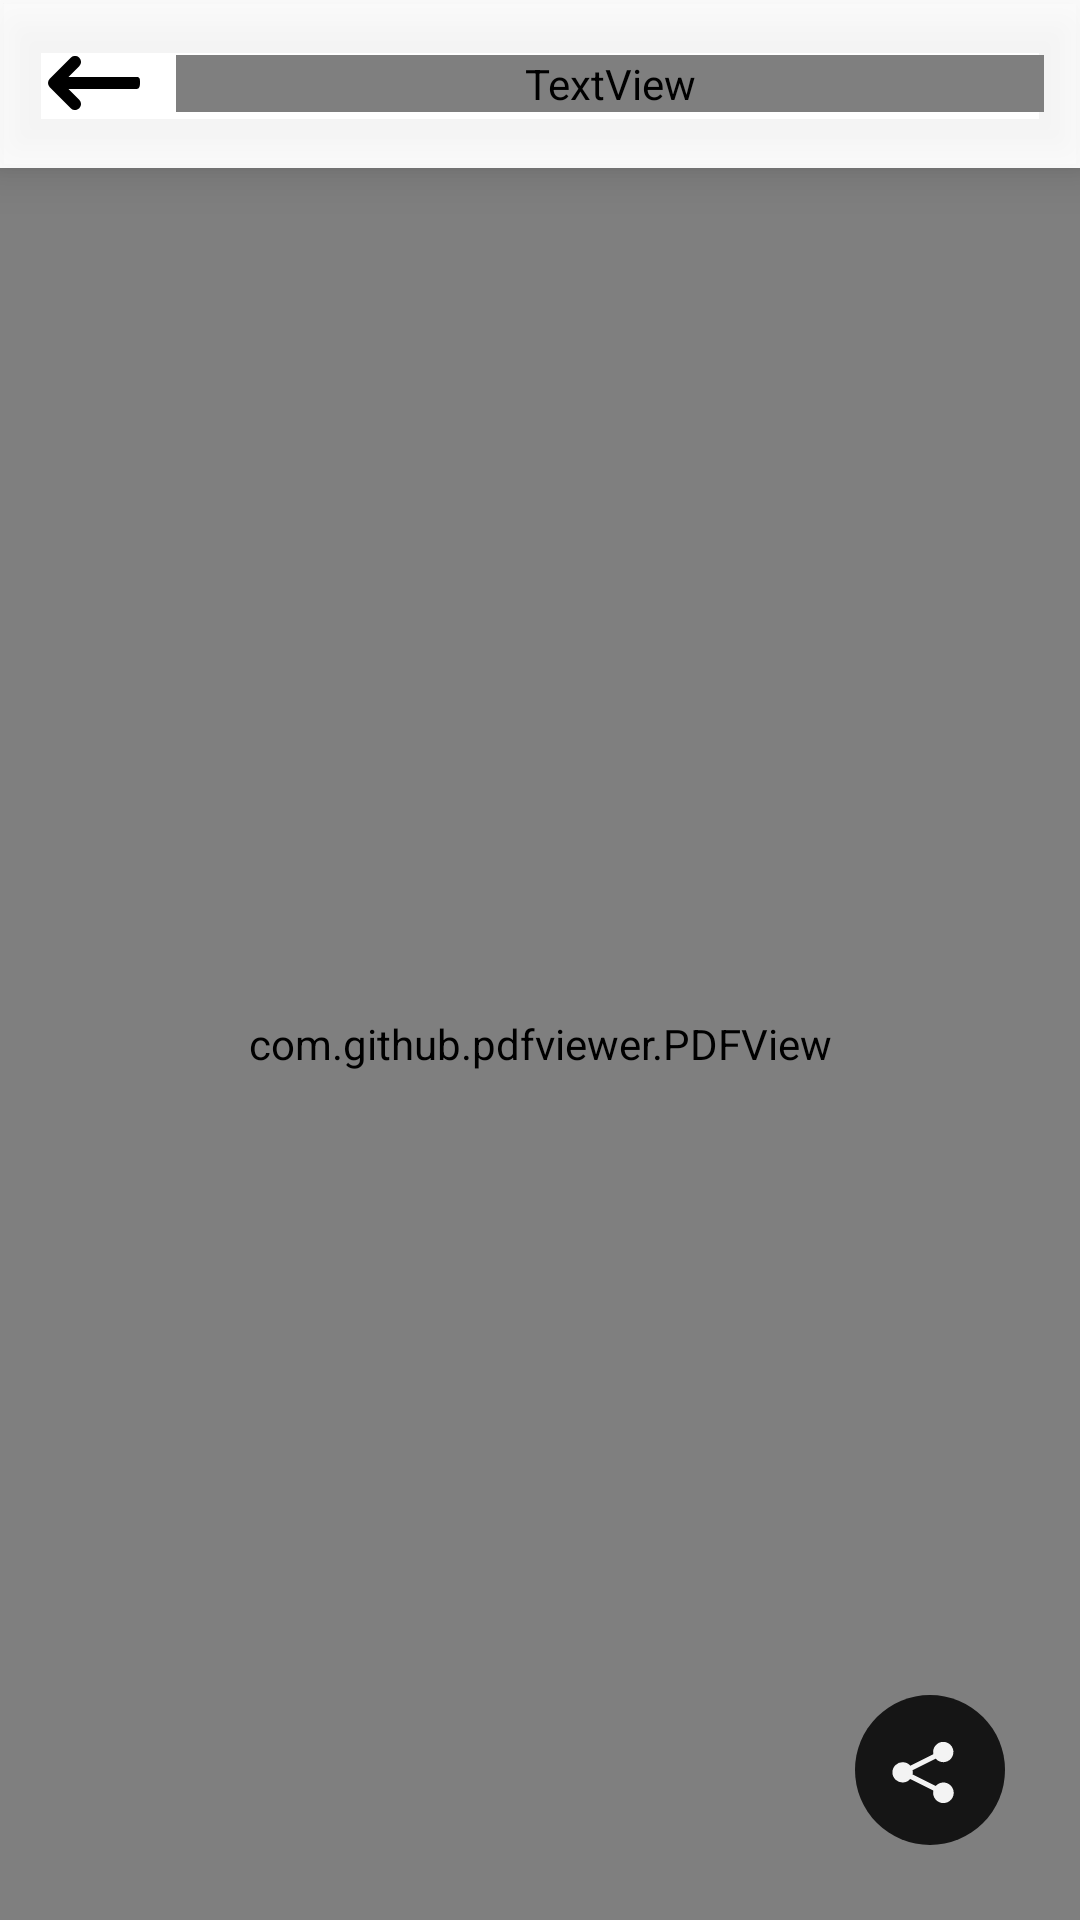

Named icons in this screenshot (1080px x 1920px) and their centers, (x=x, y=y):
backicon: (x=94, y=83)
share: (x=930, y=1770)
